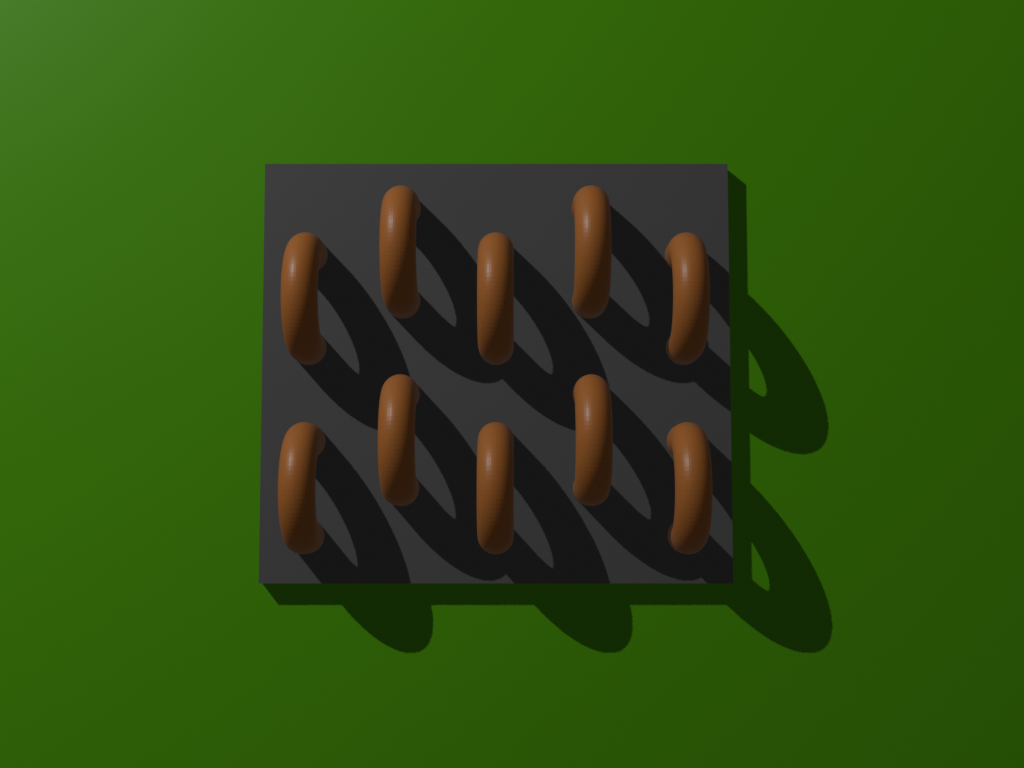return-bend: (658, 220, 728, 382), (559, 359, 629, 521), (554, 174, 624, 336), (453, 399, 523, 561), (370, 363, 440, 525), (265, 401, 335, 563), (653, 411, 723, 572), (457, 223, 527, 384), (371, 173, 441, 334), (267, 219, 337, 380)
